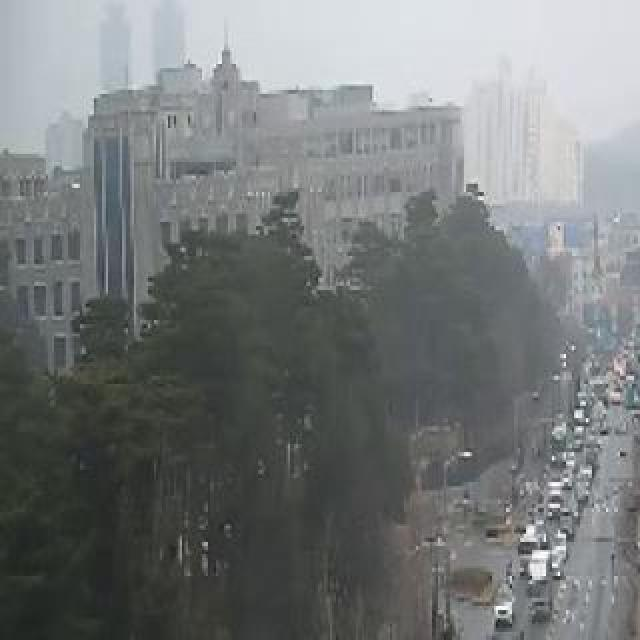truck: (524, 547, 554, 633), (496, 624, 528, 640)
